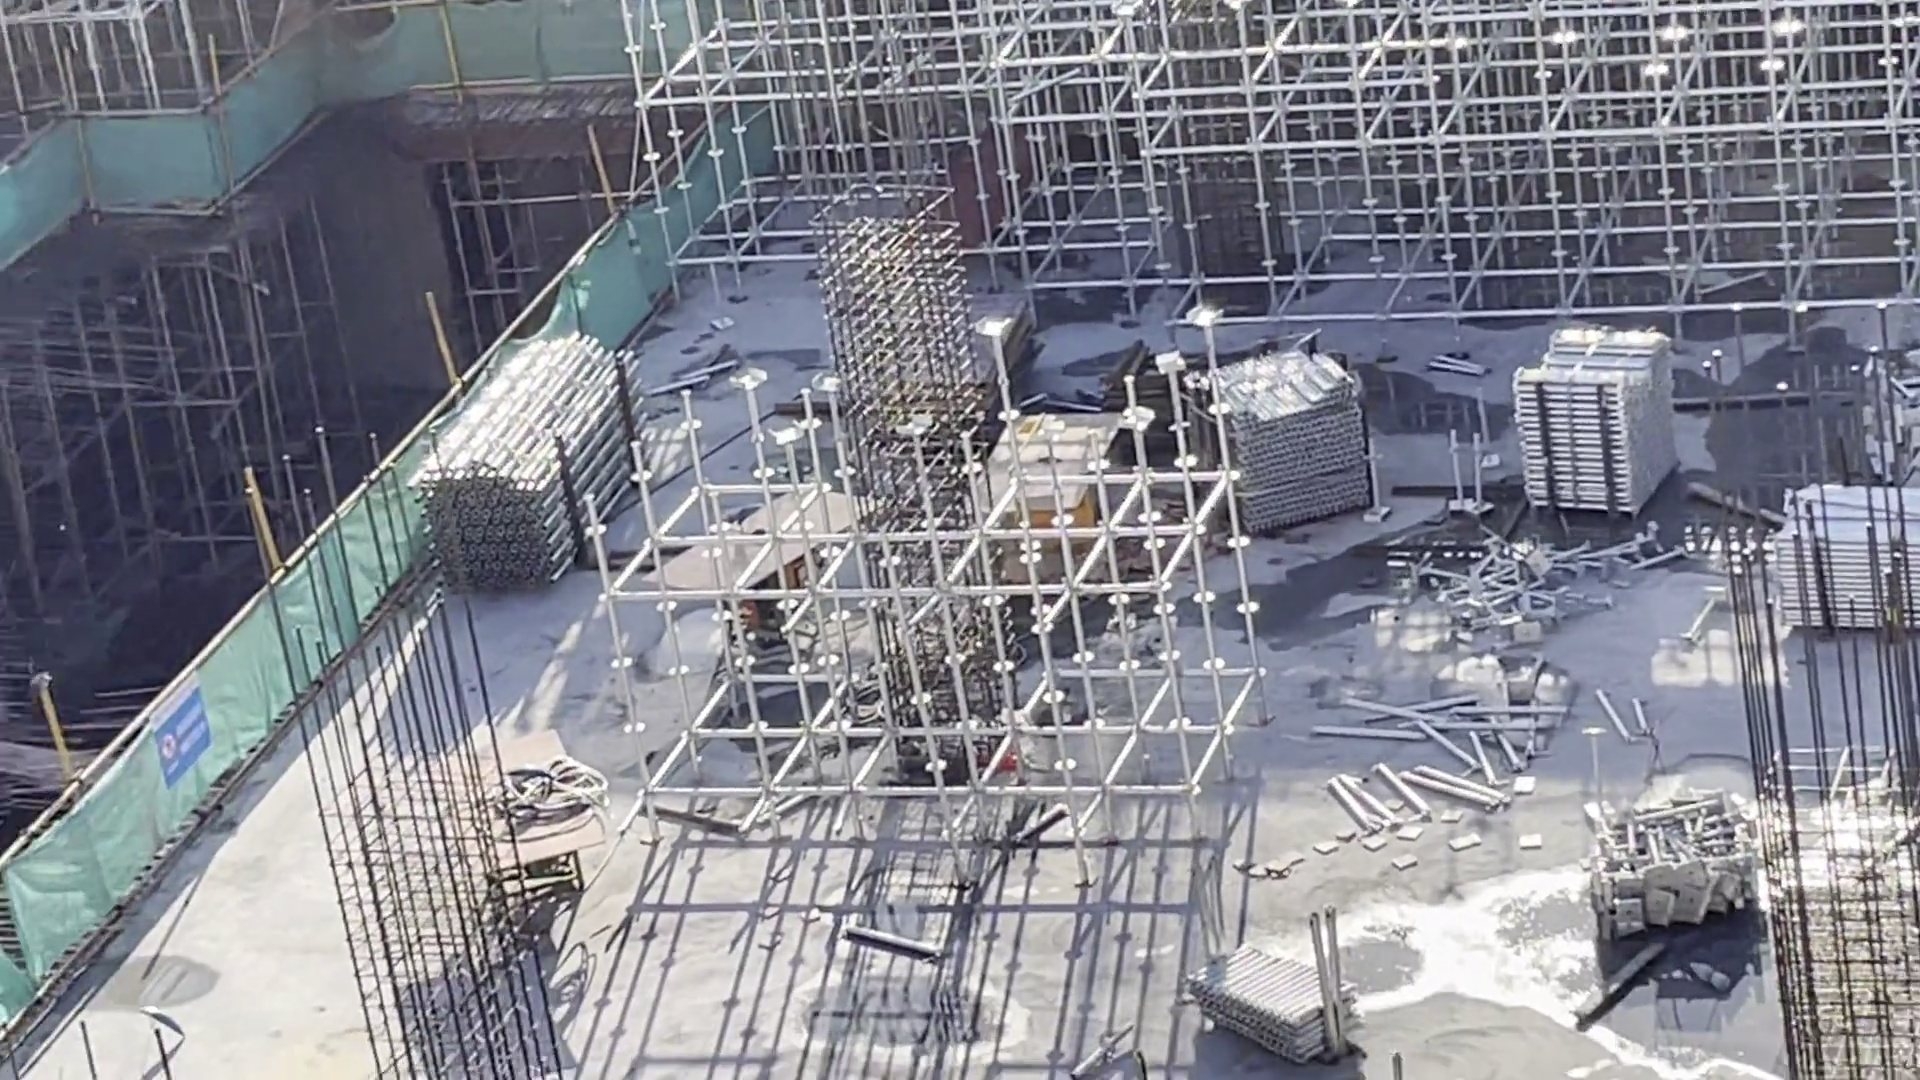cutter: (682, 513, 877, 705), (439, 713, 588, 910), (1006, 419, 1125, 576)
scaffold: (415, 349, 620, 595), (1507, 324, 1664, 543), (1163, 913, 1364, 1067), (1182, 336, 1342, 524), (1768, 484, 1920, 609)
slogan: (152, 702, 222, 773)
